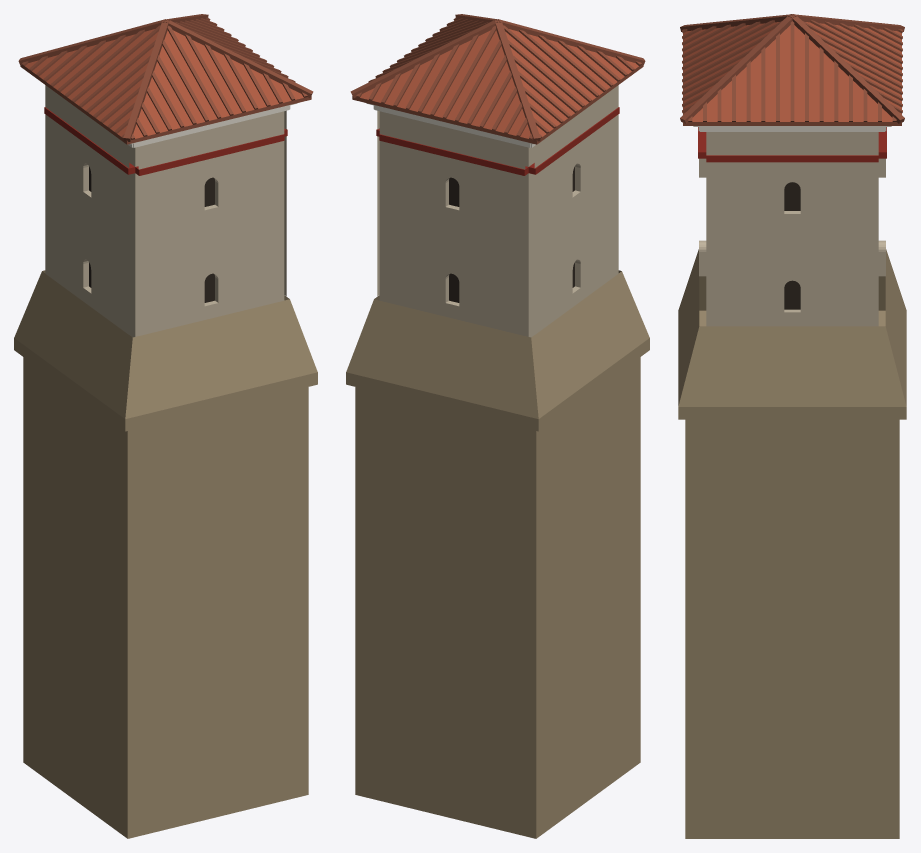
The model's file is ant_walltower.glb.
3 renders of one model, left to right at view 1: azimuth 30°, elevation 25°; view 2: azimuth 150°, elevation 25°; view 3: azimuth 270°, elevation 25°, orthographic. The views are drawn at different scales.
Visible parts, largest first — view 1: ant_walltower; view 2: ant_walltower; view 3: ant_walltower.
Boxes of the visible parts, <box> form: ant_walltower: <box>14,14,317,838</box>; ant_walltower: <box>346,14,649,838</box>; ant_walltower: <box>678,14,906,838</box>.
Size of the model in its own units: 9.8 by 36.87 by 9.8.
